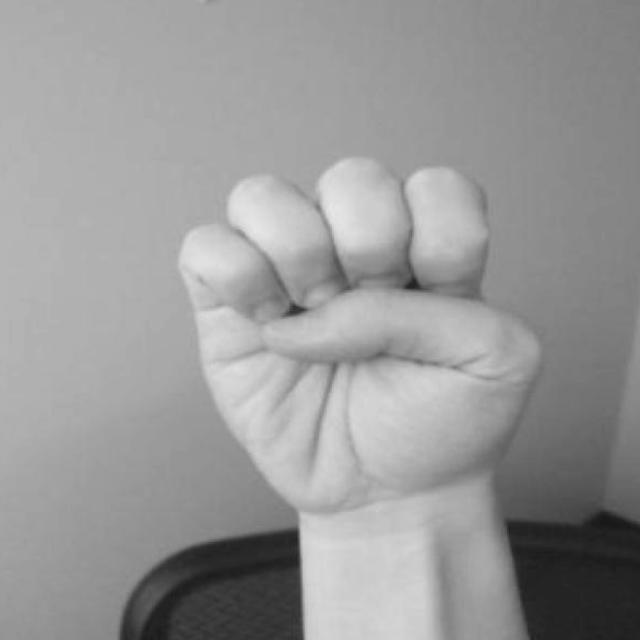E: (157, 139, 558, 570)
